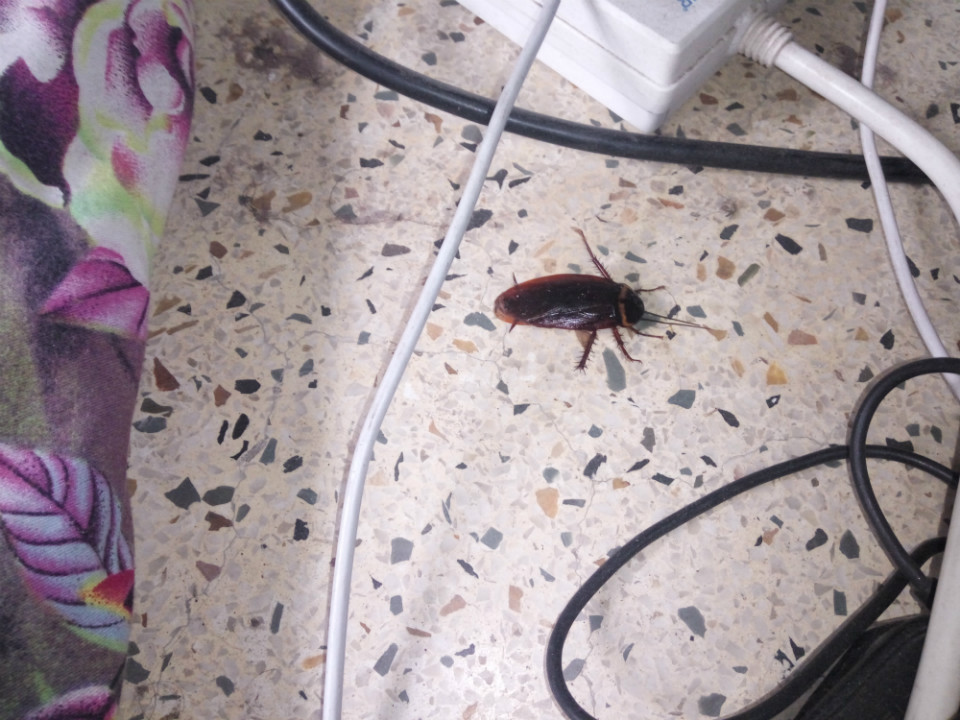cockroach: (475, 249, 730, 385)
